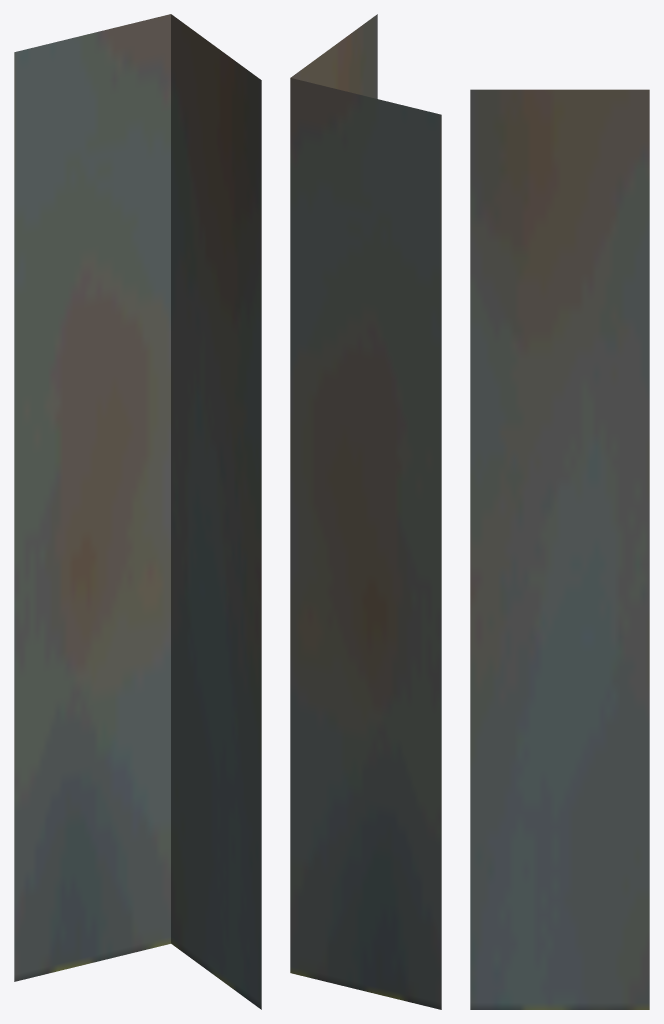
Rendered from W_A1_Eckverschluß [Grau]_1091.glb.
3 renders of one model, left to right at view 1: azimuth 30°, elevation 25°; view 2: azimuth 150°, elevation 25°; view 3: azimuth 270°, elevation 25°, orthographic. The views are drawn at different scales.
Parts seen in each view (by area): view 1: pPlaneShape7; view 2: pPlaneShape7; view 3: pPlaneShape7.
Part boxes in pixels (<box>): pPlaneShape7: <box>14,14,261,1009</box>; pPlaneShape7: <box>290,14,441,1009</box>; pPlaneShape7: <box>470,89,649,1009</box>.
Size of the model in its own units: 0.0615 by 0.3486 by 0.0615.
Materials: 1 (1 with a texture image).
